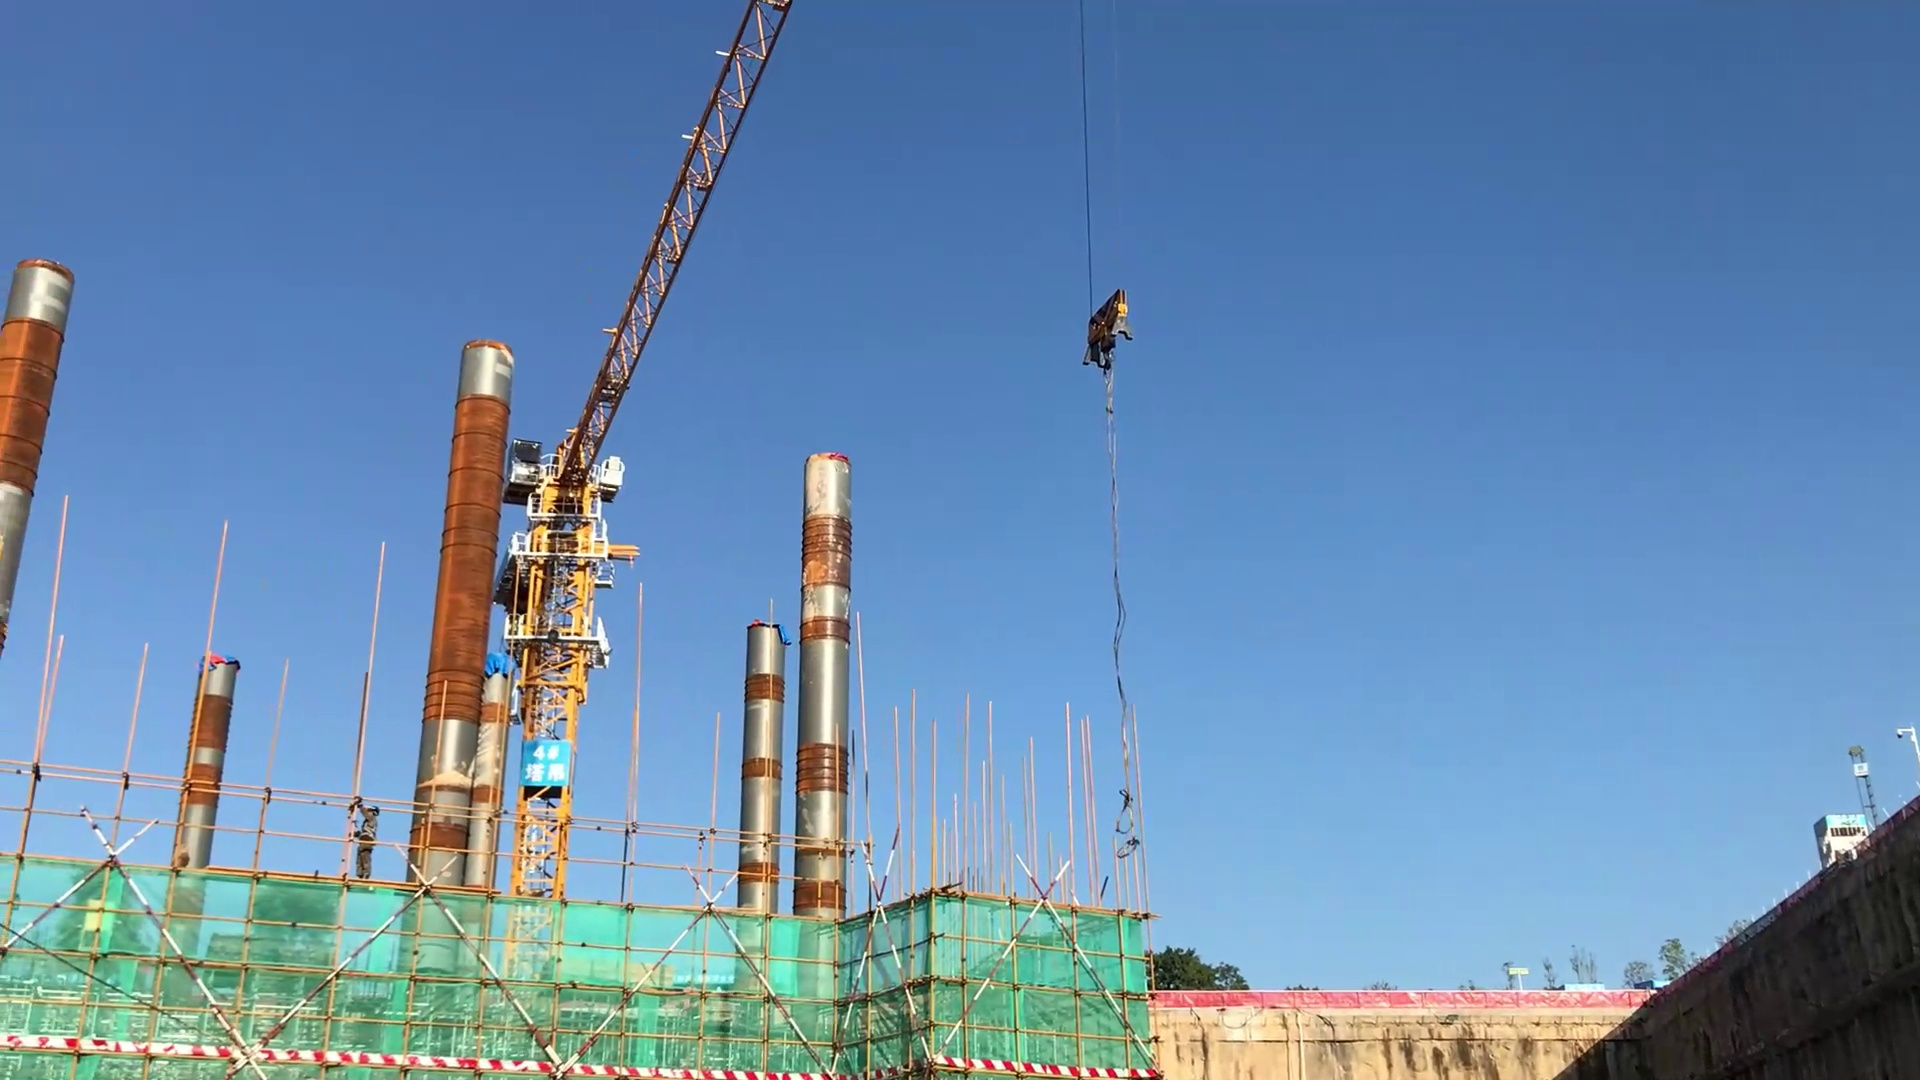helmet: (367, 805, 379, 816)
hook: (1078, 292, 1137, 370)
person: (343, 788, 384, 885)
vest: (355, 817, 377, 842)
